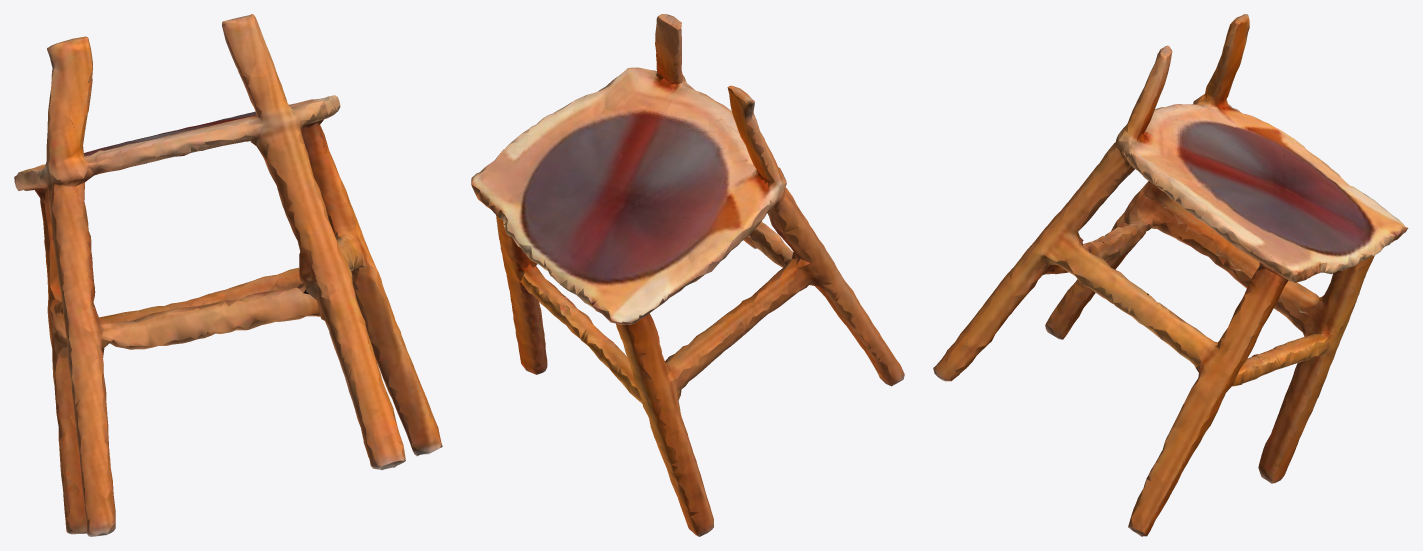
The picture shows the model from 3 angles, left to right: view 1: azimuth 30°, elevation 25°; view 2: azimuth 150°, elevation 25°; view 3: azimuth 270°, elevation 25°; orthographic projection. The views are drawn at different scales.
Parts seen in each view (by area): view 1: world; view 2: world; view 3: world.
Part boxes in pixels (<box>): world: <box>14,14,442,536</box>; world: <box>471,14,904,536</box>; world: <box>933,14,1408,536</box>.
Bounding box in the file's own units: 0.7195 × 0.925 × 0.8434.
1 material, 1 textured.
